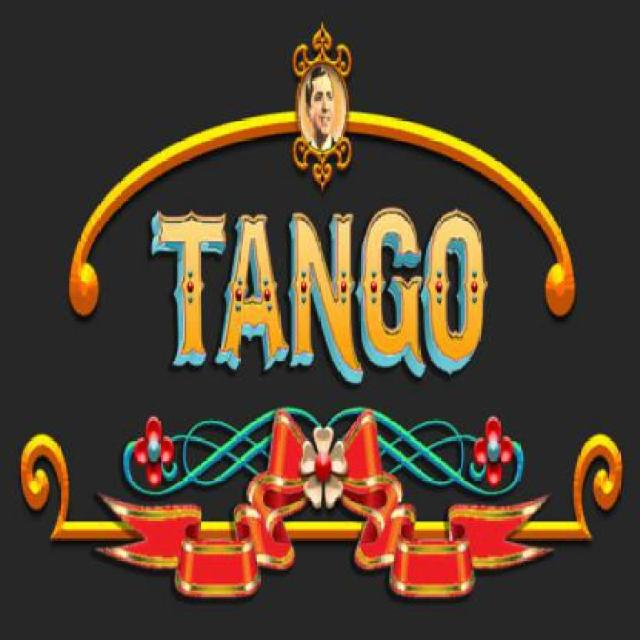Person: (294, 35, 355, 218)
